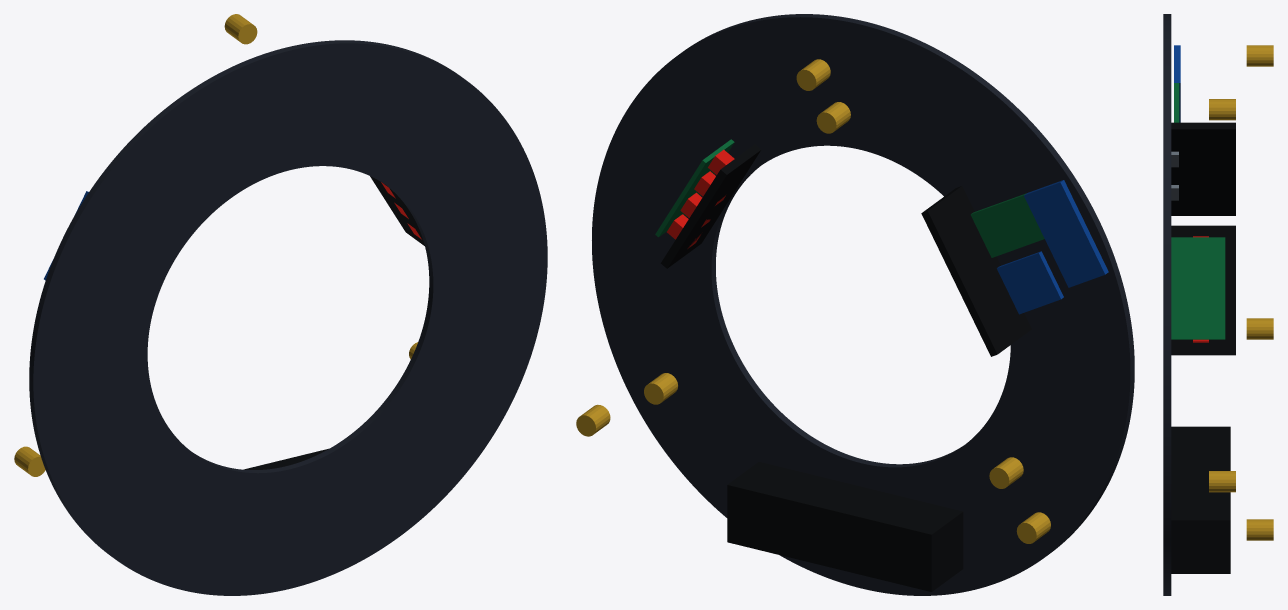
The model's file is tron-carrier-review.obj.
3 views of the same model, side by side, from view 1: azimuth 30°, elevation 25°; view 2: azimuth 150°, elevation 25°; view 3: azimuth 270°, elevation 25° (orthographic). The views are drawn at different scales.
Parts seen in each view (by area): view 1: acrylic, metal, black; view 2: acrylic, black, pcb_blue, metal, pcb_green, button; view 3: black, pcb_green, acrylic, metal, pcb_blue, usb.
Part boxes in pixels (x1,y1,x2,y2): acrylic: [29, 40, 547, 595]; metal: [14, 14, 417, 476]; black: [244, 176, 424, 469]; acrylic: [592, 14, 1134, 595]; black: [660, 144, 1031, 591]; pcb_blue: [997, 180, 1108, 314]; metal: [576, 59, 1050, 543]; pcb_green: [655, 139, 1044, 257]; button: [667, 149, 734, 248]; black: [1171, 122, 1235, 573]; pcb_green: [1171, 83, 1225, 339]; acrylic: [1163, 14, 1171, 595]; metal: [1209, 45, 1273, 540]; pcb_blue: [1174, 45, 1180, 122]; usb: [1171, 151, 1178, 200].
Bounding box in the file's own units: 216 × 216 × 41.
